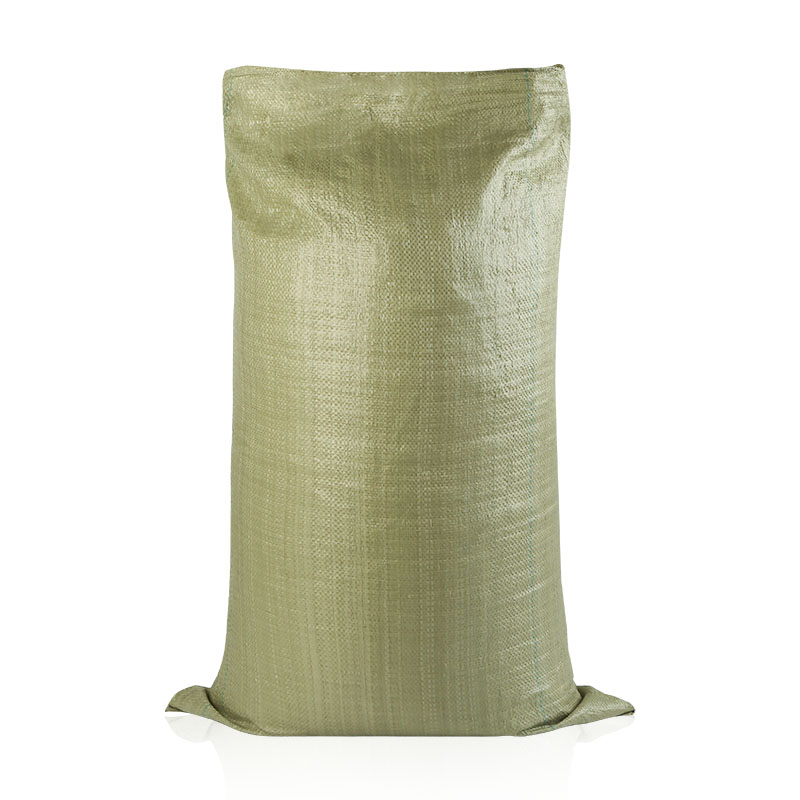Parcel: (167, 66, 634, 737)
